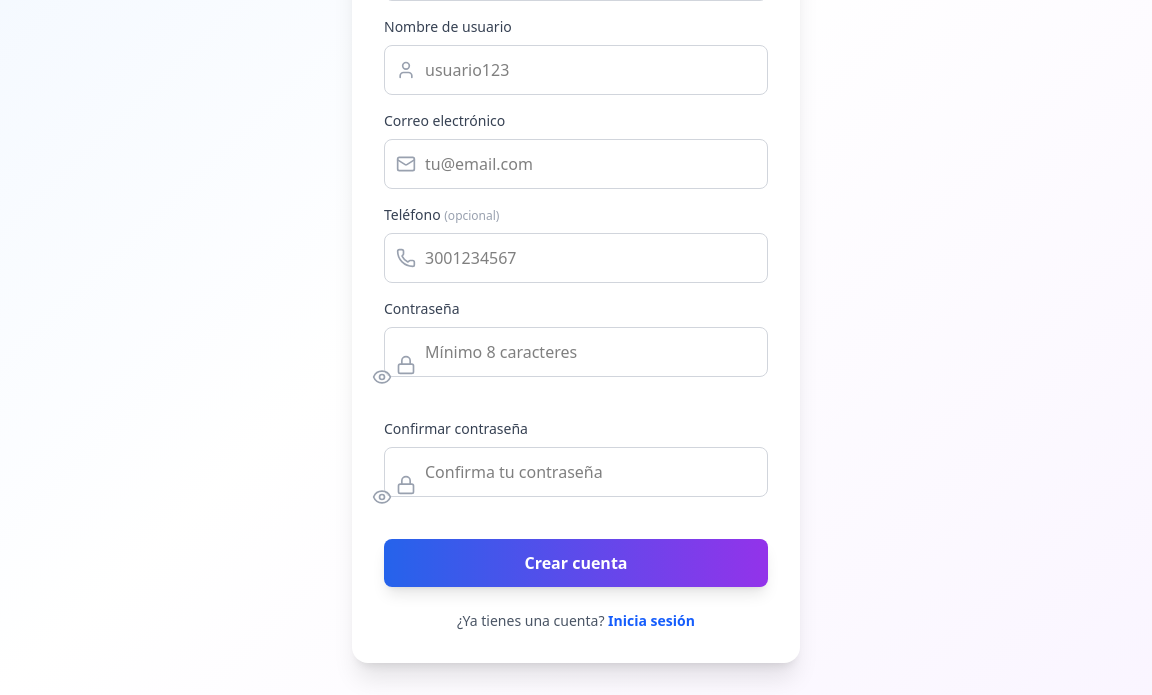
Test: Register › debe mostrar validación de contraseña en tiempo real
The image size is (1152, 695).
(page scrolled)
Type "weak" into the password field labelled "Contraseña".
click(576, 352); type("weak")  # box [384,327,768,377]
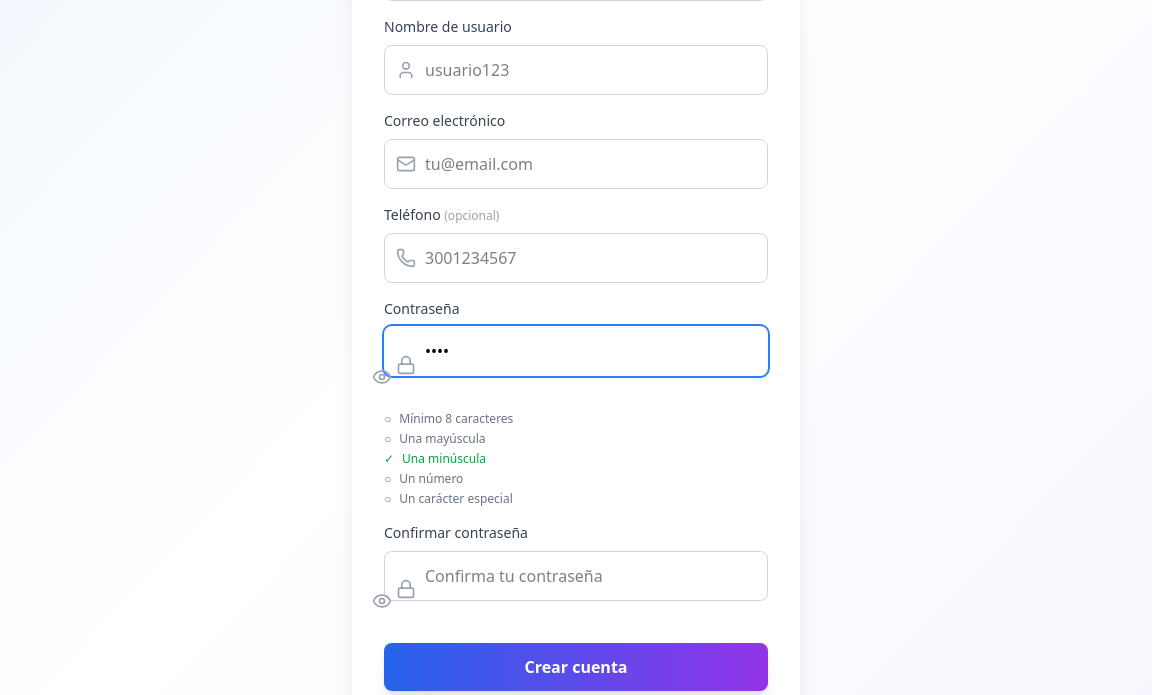
Result: the text "Mínimo 8 caracteres" is shown at [399,411,513,427]
Type "Password123!" into the password field labelled "Contraseña".
click(576, 351); type("Password123!")  # box [384,326,768,376]
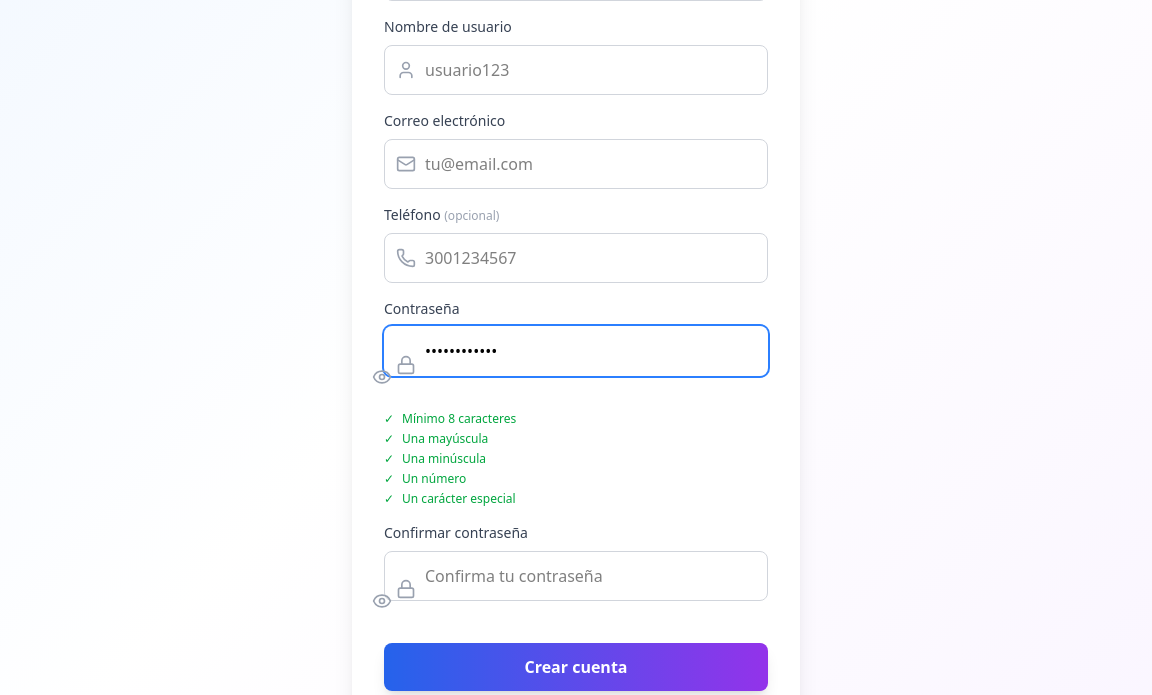
Result: the text "✓" next to "Mínimo 8 caracteres" is shown at [384,410,394,427]
